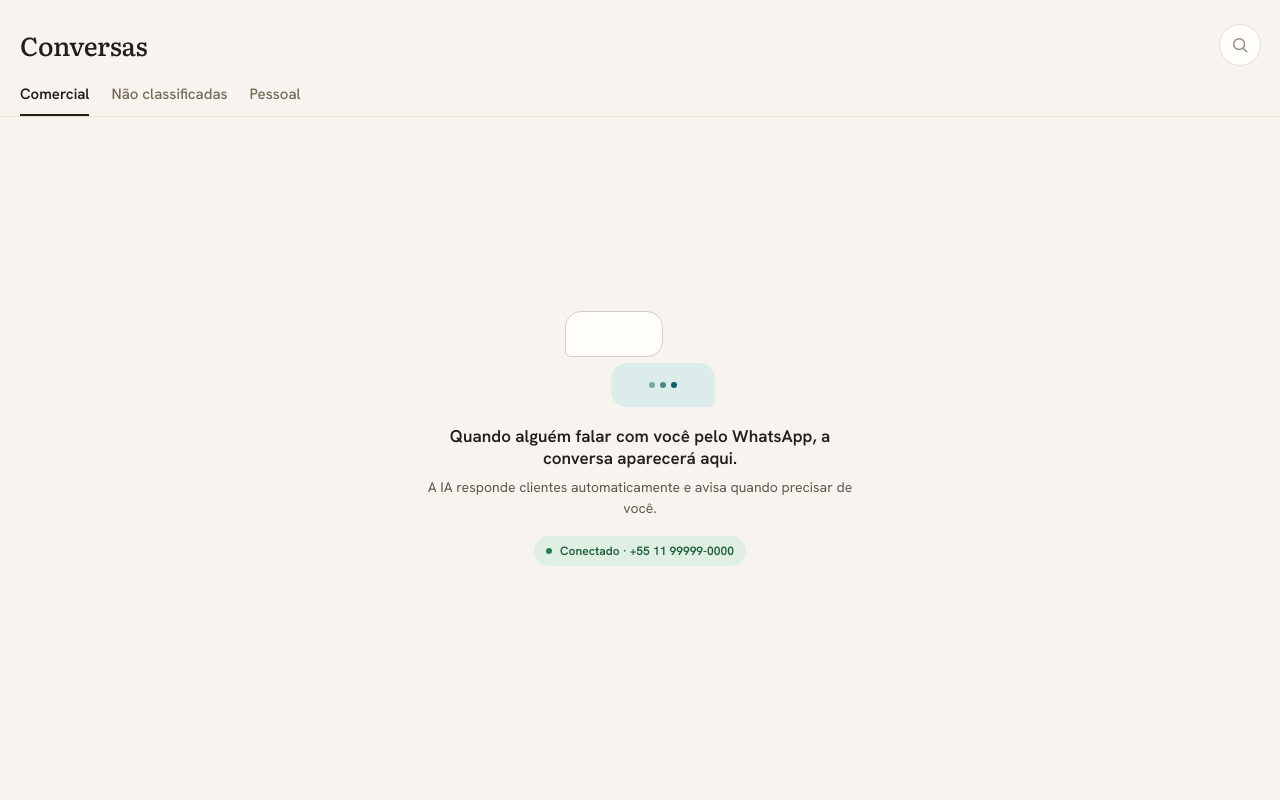
Test case: as três abas são servidas pelo backend › a aba Pessoal declara que a IA está desativada naquela sessão
Click the tab "Pessoal". click: {"x": 275, "y": 100}
box: [250,84,301,116]
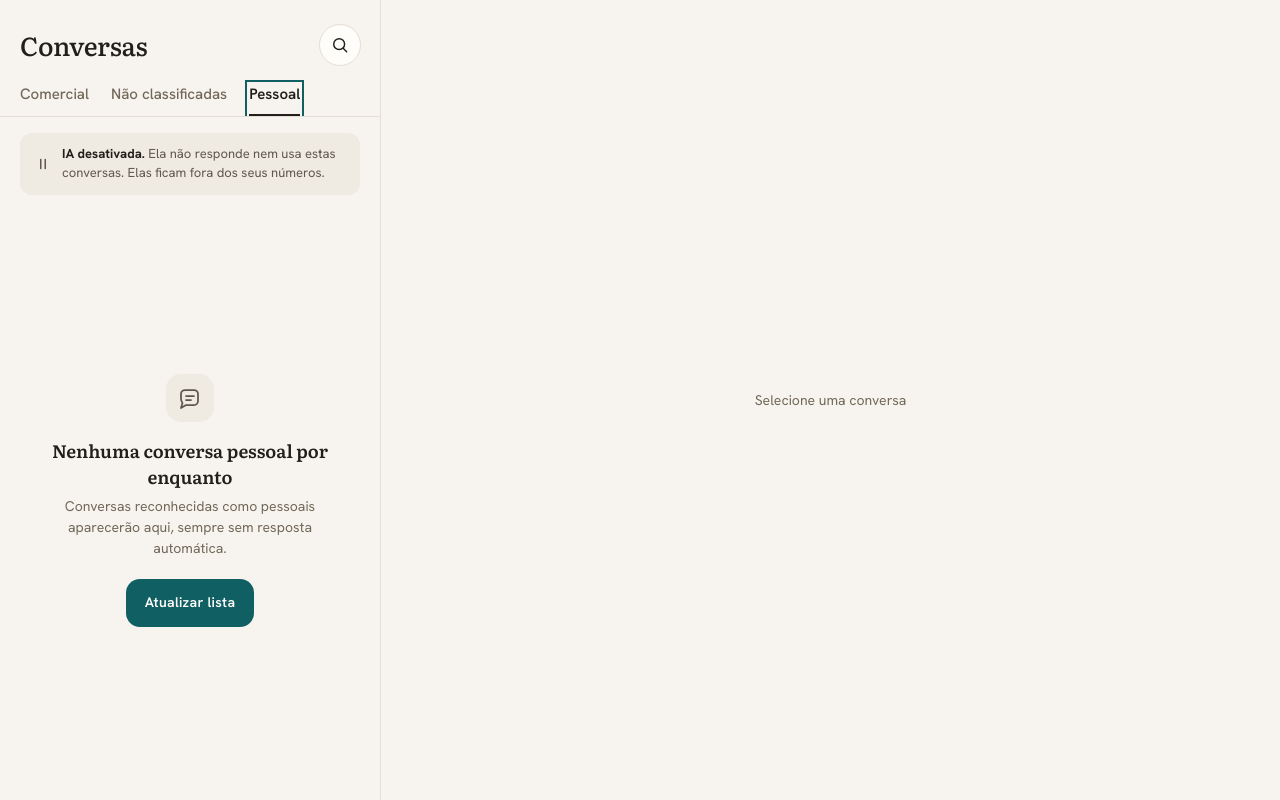
Expected: the text "IA desativada." is shown, [62,145,145,162]
Expected: the text "Ela não responde nem usa estas conversas" is shown, [62,145,336,181]
